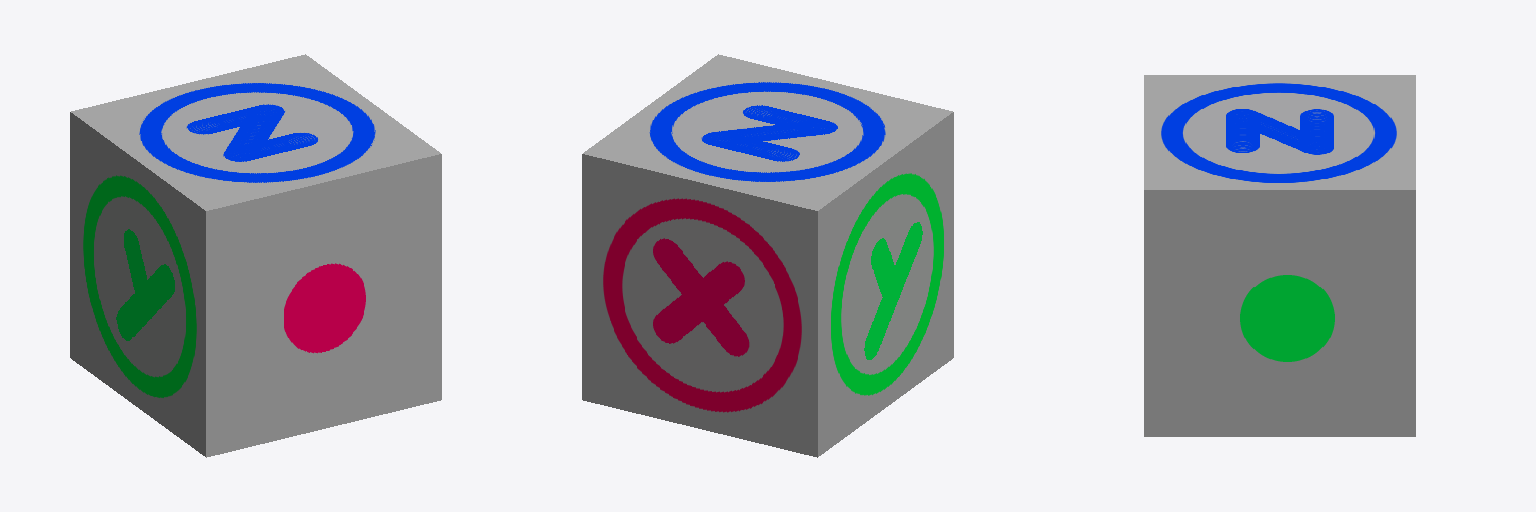
The picture shows the model from 3 angles: view 1: azimuth 30°, elevation 25°; view 2: azimuth 150°, elevation 25°; view 3: azimuth 270°, elevation 25°; orthographic projection.
Visible parts, largest first — view 1: Cube; view 2: Cube; view 3: Cube.
Boxes of the visible parts, box(x1,y1,x2,y2) form: Cube: box(70, 54, 441, 457); Cube: box(582, 54, 953, 457); Cube: box(1144, 75, 1415, 436).
Size of the model in its own units: 2 by 2 by 2.
Materials: 1 (1 with a texture image).